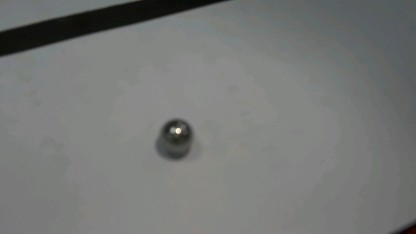ironball: (158, 111, 196, 154)
